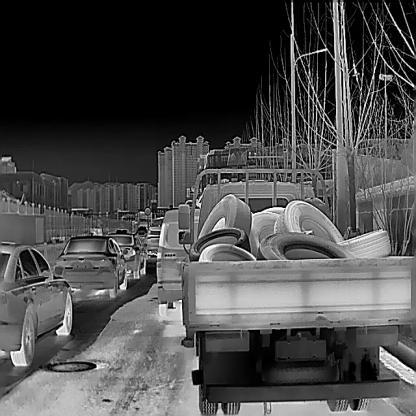car: (177, 159, 416, 415), (0, 238, 73, 367), (154, 205, 204, 317), (49, 229, 128, 298), (104, 230, 147, 279), (141, 224, 163, 258)
